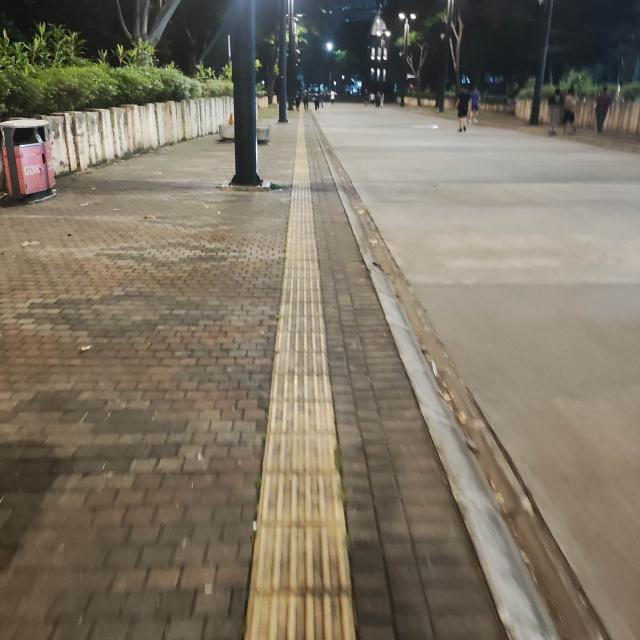lurus: (266, 142, 340, 640)
